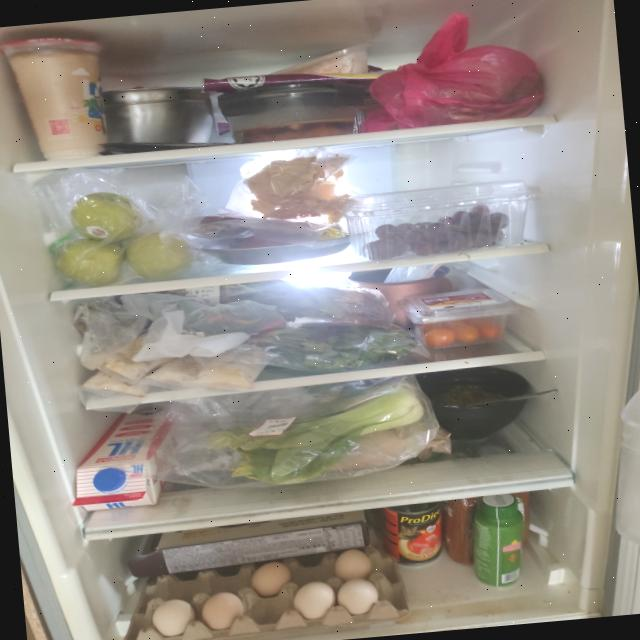apple: (50, 184, 196, 290)
egg: (113, 542, 413, 640)
grape: (363, 202, 512, 262)
leafy_greens: (267, 313, 421, 377)
pakchoy: (202, 379, 430, 492)
tempeh: (79, 321, 268, 402)
unknown_bag: (351, 5, 547, 133)
